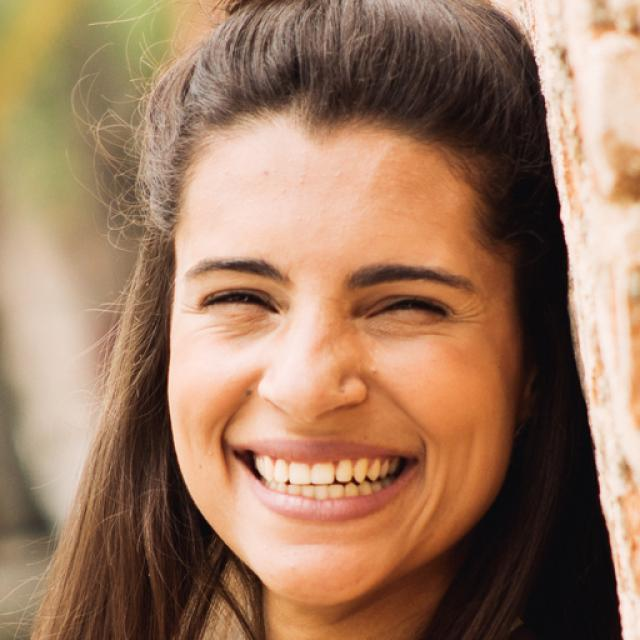happy: (158, 102, 522, 610)
